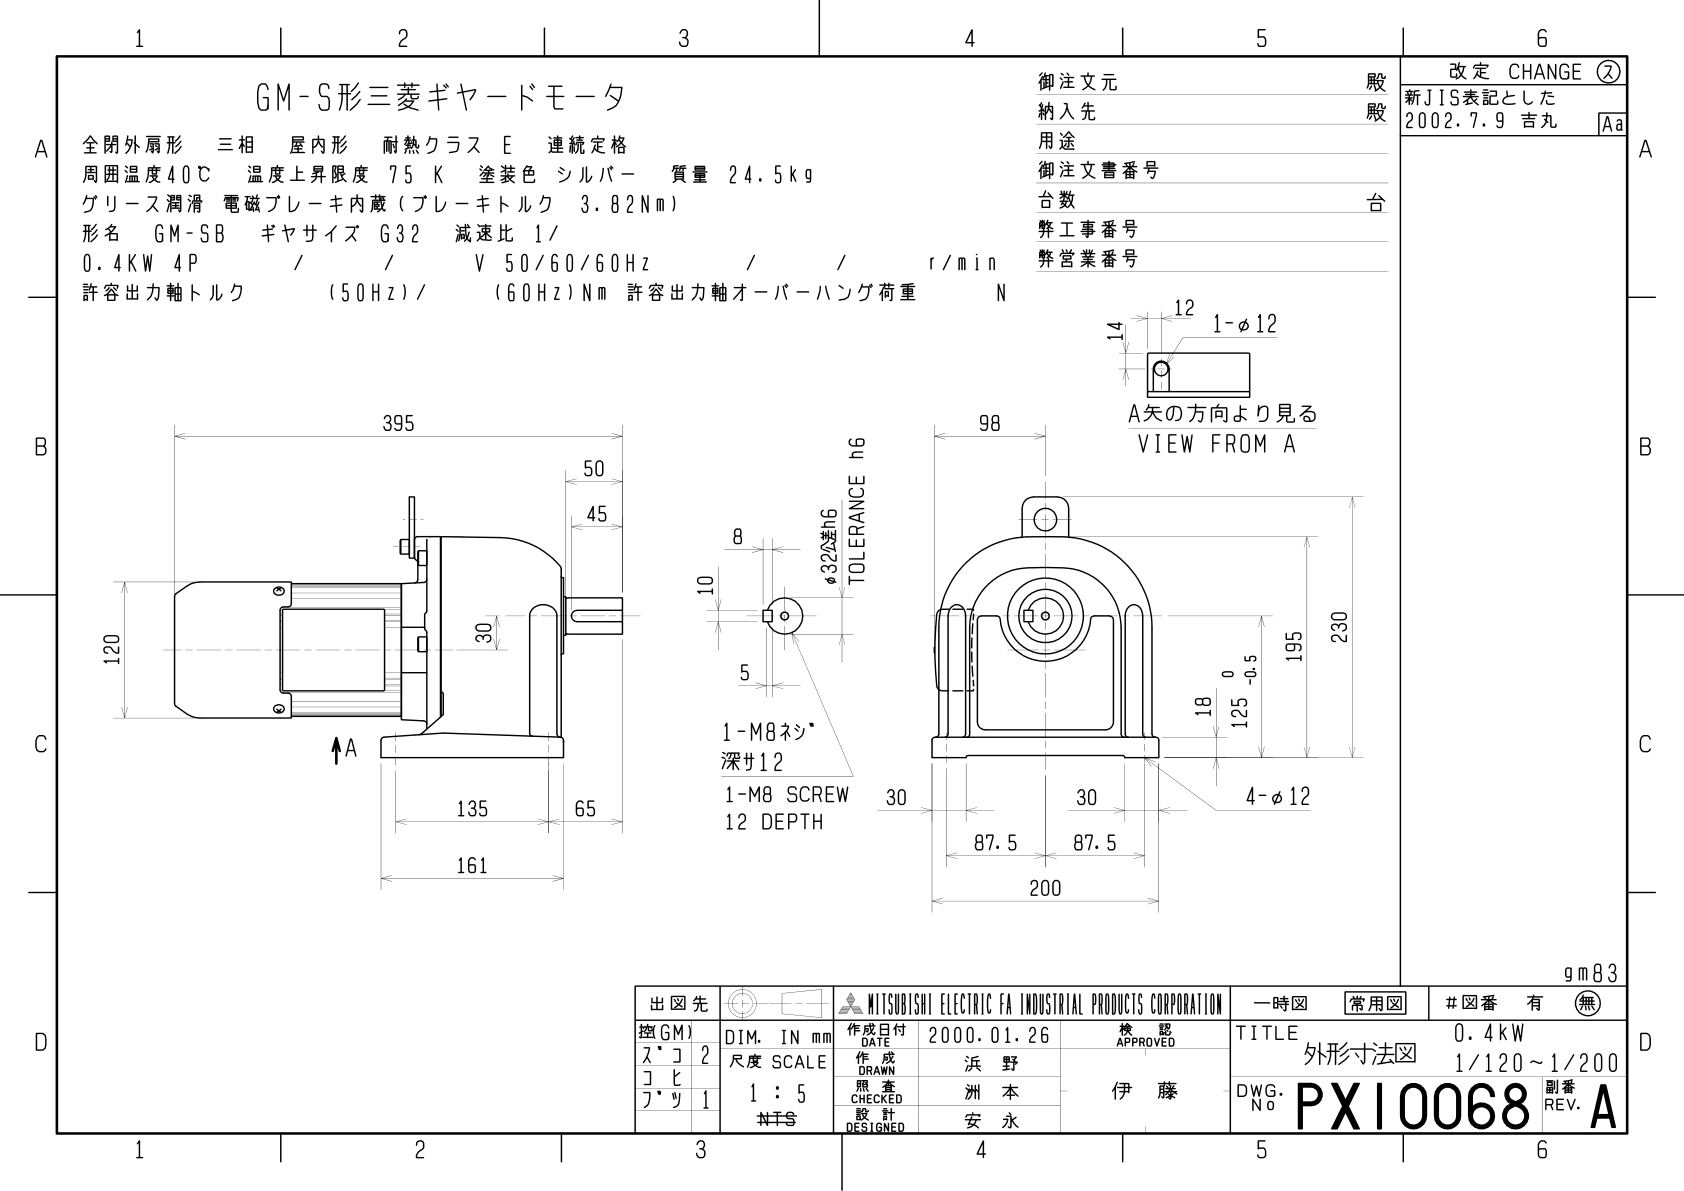GM_S_屋内＿三相_脚: (88, 296, 1383, 944)
